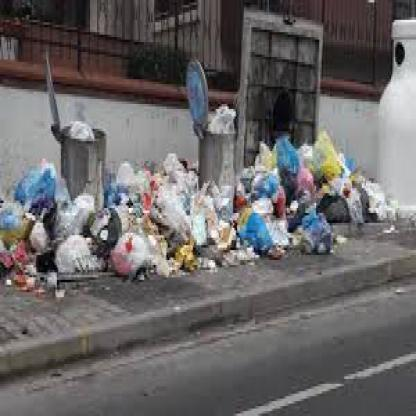Garbage: (247, 141, 394, 250), (0, 171, 125, 287), (116, 160, 200, 272), (182, 195, 265, 266), (207, 106, 238, 142)
